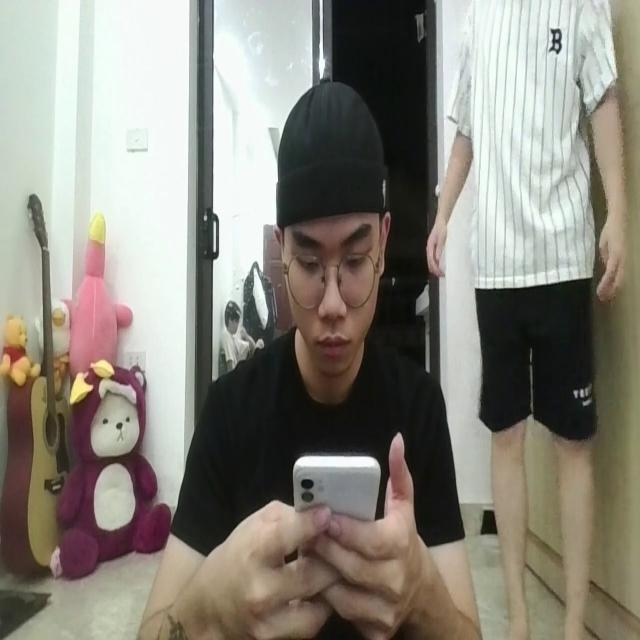extra_person: (435, 0, 627, 640)
phone: (292, 441, 384, 555)
student: (155, 75, 470, 640)
